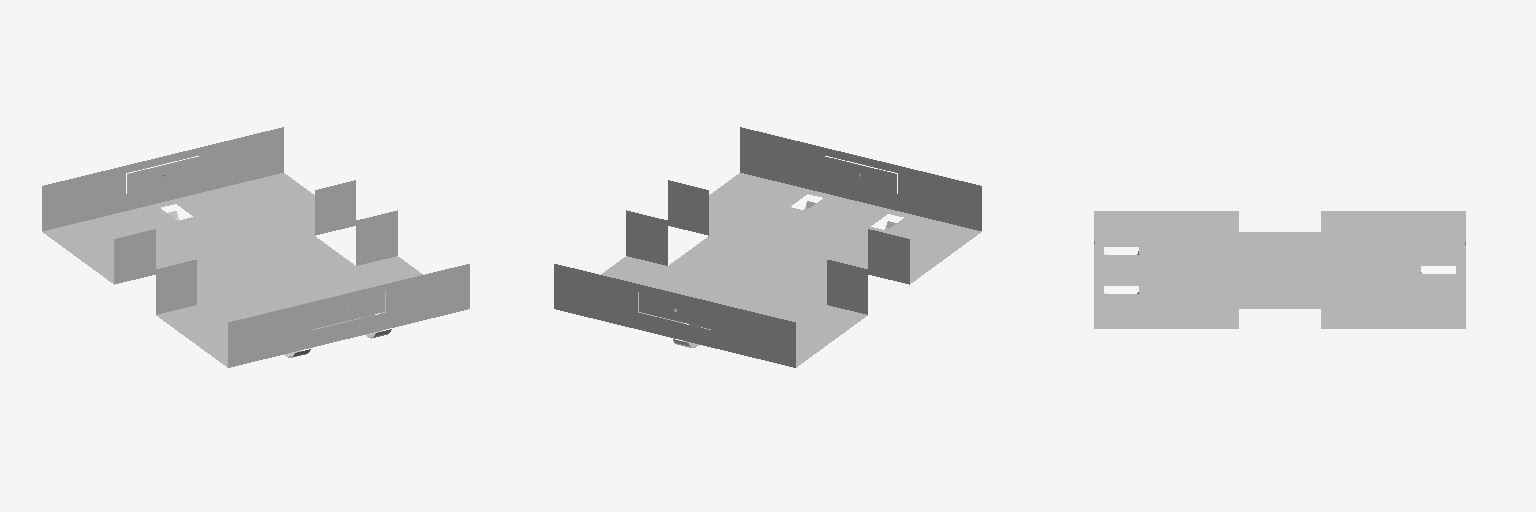
Rendered from Squirrel Chassis.obj.
3 views of the same model, side by side, from view 1: azimuth 30°, elevation 25°; view 2: azimuth 150°, elevation 25°; view 3: azimuth 270°, elevation 25° (orthographic).
Bounding box in the file's own units: 300 × 74 × 400.